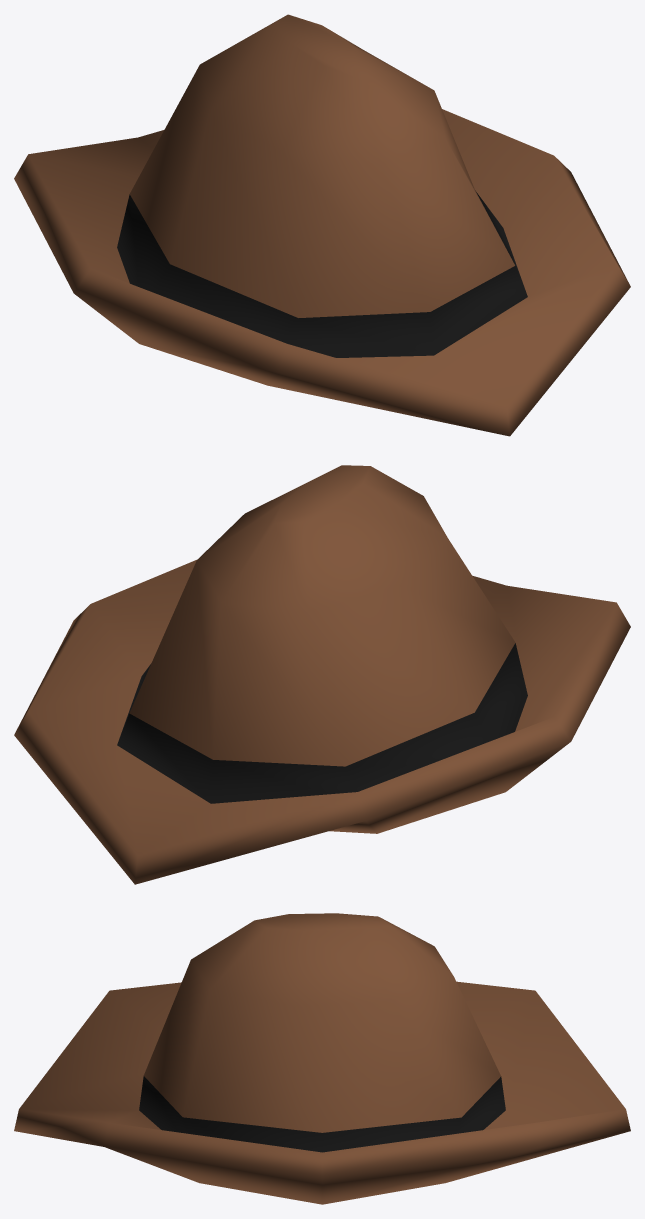
Rendered from CowboyHat.gltf.
3 views of the same model, one above another, from view 1: azimuth 30°, elevation 25°; view 2: azimuth 150°, elevation 25°; view 3: azimuth 270°, elevation 25° (orthographic). The views are drawn at different scales.
Parts seen in each view (by area): view 1: Circle; view 2: Circle; view 3: Circle.
Part boxes in pixels (<box>): Circle: <box>14,14,630,436</box>; Circle: <box>14,465,630,884</box>; Circle: <box>14,913,630,1204</box>.
Size of the model in its own units: 0.382 by 0.1864 by 0.4988.
Materials: 1 (1 with a texture image).
